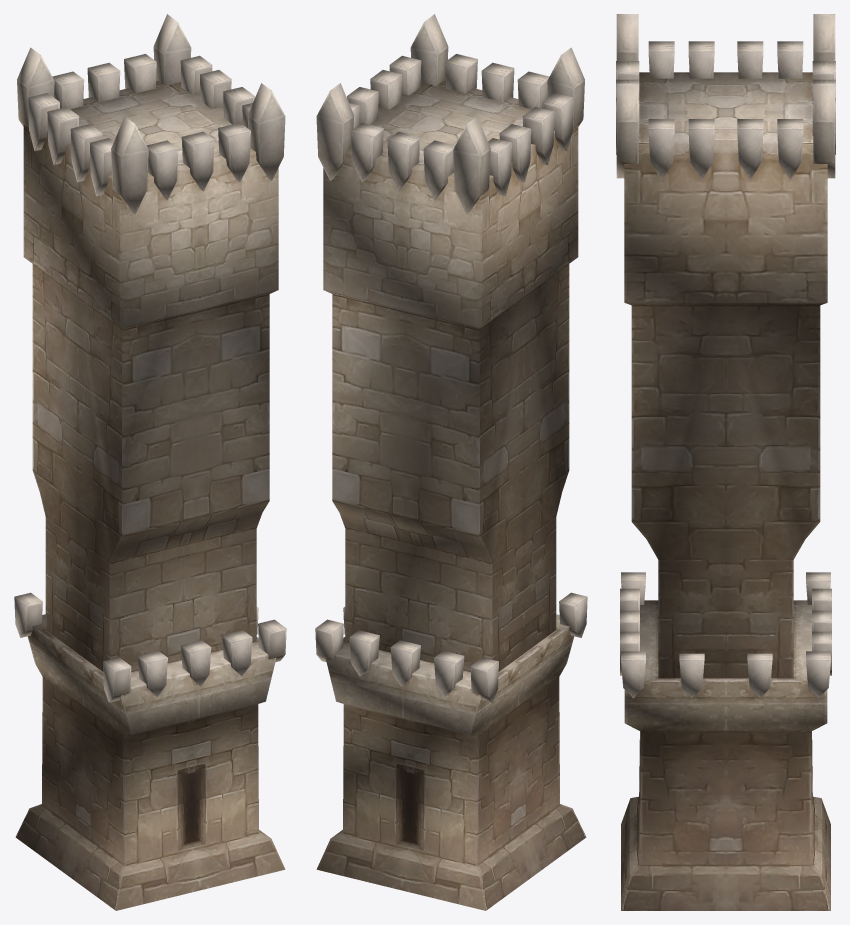
File: zhuzi.FBX
The picture shows the model from 3 angles, left to right: view 1: azimuth 30°, elevation 25°; view 2: azimuth 150°, elevation 25°; view 3: azimuth 270°, elevation 25°; orthographic projection. The views are drawn at different scales.
Visible parts, largest first — view 1: Object008; view 2: Object008; view 3: Object008.
Part boxes in pixels (bbox=[...]): Object008: bbox=[14, 14, 286, 910]; Object008: bbox=[315, 14, 587, 910]; Object008: bbox=[616, 14, 835, 910].
Size of the model in its own units: 505 by 2193 by 534.
